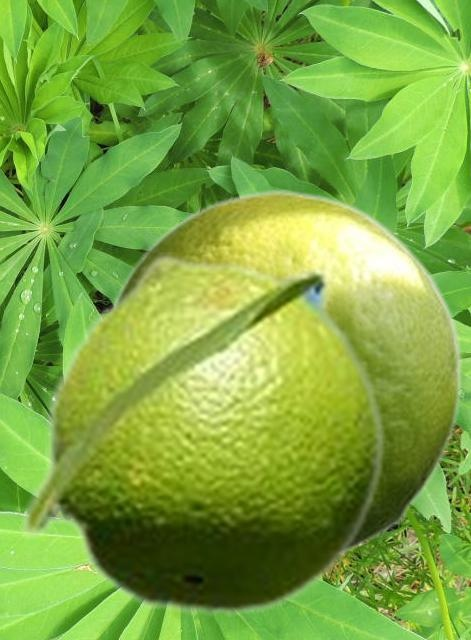dalandan: (17, 252, 387, 618), (110, 188, 461, 555)
